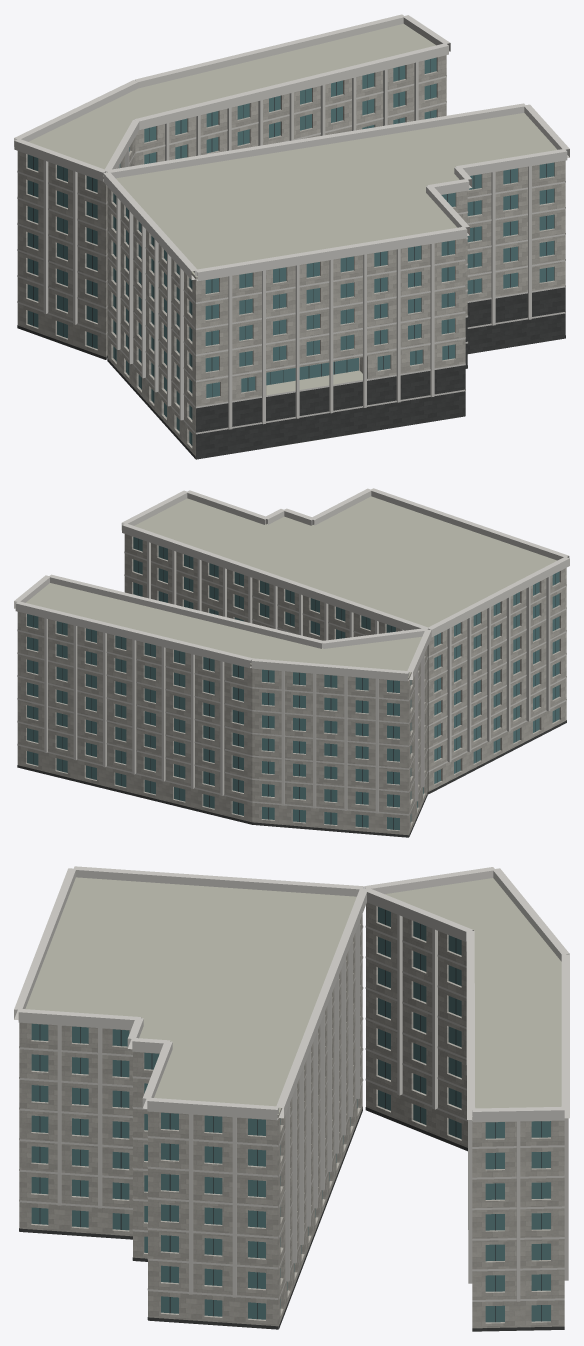
3 renders of one model, top to bottom at view 1: azimuth 30°, elevation 25°; view 2: azimuth 150°, elevation 25°; view 3: azimuth 270°, elevation 25°, orthographic. The views are drawn at different scales.
Visible parts, largest first — view 1: orbis__wall, orbis__roof, orbis__trim, orbis__glass, orbis__base, orbis__frame; view 2: orbis__wall, orbis__trim, orbis__roof, orbis__glass, orbis__frame, orbis__base; view 3: orbis__wall, orbis__roof, orbis__trim, orbis__glass, orbis__base, orbis__frame.
Boxes of the visible parts, x1=… form: orbis__wall: x1=17, y1=55, x2=565, y2=458; orbis__roof: x1=29, y1=23, x2=557, y2=448; orbis__trim: x1=14, y1=14, x2=569, y2=434; orbis__glass: x1=27, y1=57, x2=554, y2=445; orbis__base: x1=17, y1=287, x2=565, y2=459; orbis__frame: x1=33, y1=59, x2=546, y2=445; orbis__wall: x1=17, y1=534, x2=566, y2=836; orbis__trim: x1=14, y1=488, x2=569, y2=815; orbis__roof: x1=26, y1=496, x2=556, y2=677; orbis__glass: x1=27, y1=537, x2=559, y2=830; orbis__frame: x1=33, y1=539, x2=555, y2=829; orbis__base: x1=17, y1=720, x2=566, y2=837; orbis__wall: x1=19, y1=902, x2=564, y2=1328; orbis__roof: x1=25, y1=877, x2=561, y2=1331; orbis__trim: x1=14, y1=866, x2=569, y2=1301; orbis__glass: x1=31, y1=907, x2=550, y2=1322; orbis__base: x1=19, y1=1107, x2=564, y2=1331; orbis__frame: x1=39, y1=909, x2=541, y2=1322.
Bounding box in the file's own units: 63.66 × 26.82 × 60.88.
Materials: 7 (2 with a texture image).
